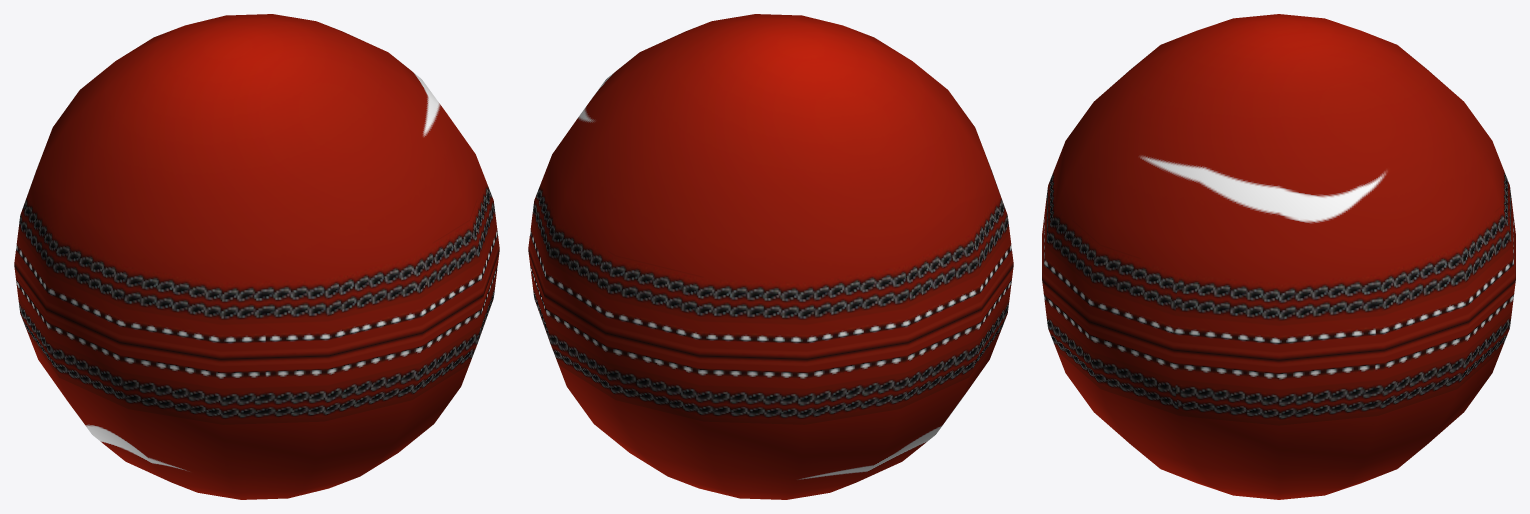
File: Ball.fbx
3 renders of one model, left to right at view 1: azimuth 30°, elevation 25°; view 2: azimuth 150°, elevation 25°; view 3: azimuth 270°, elevation 25°, orthographic.
Visible parts, largest first — view 1: Ball; view 2: Ball; view 3: Ball.
Boxes of the visible parts, box(x1,y1,x2,y2) form: Ball: box(14, 14, 499, 499); Ball: box(528, 14, 1013, 499); Ball: box(1042, 14, 1515, 499).
Size of the model in its own units: 175 by 175 by 171.
1 material, 1 textured.
